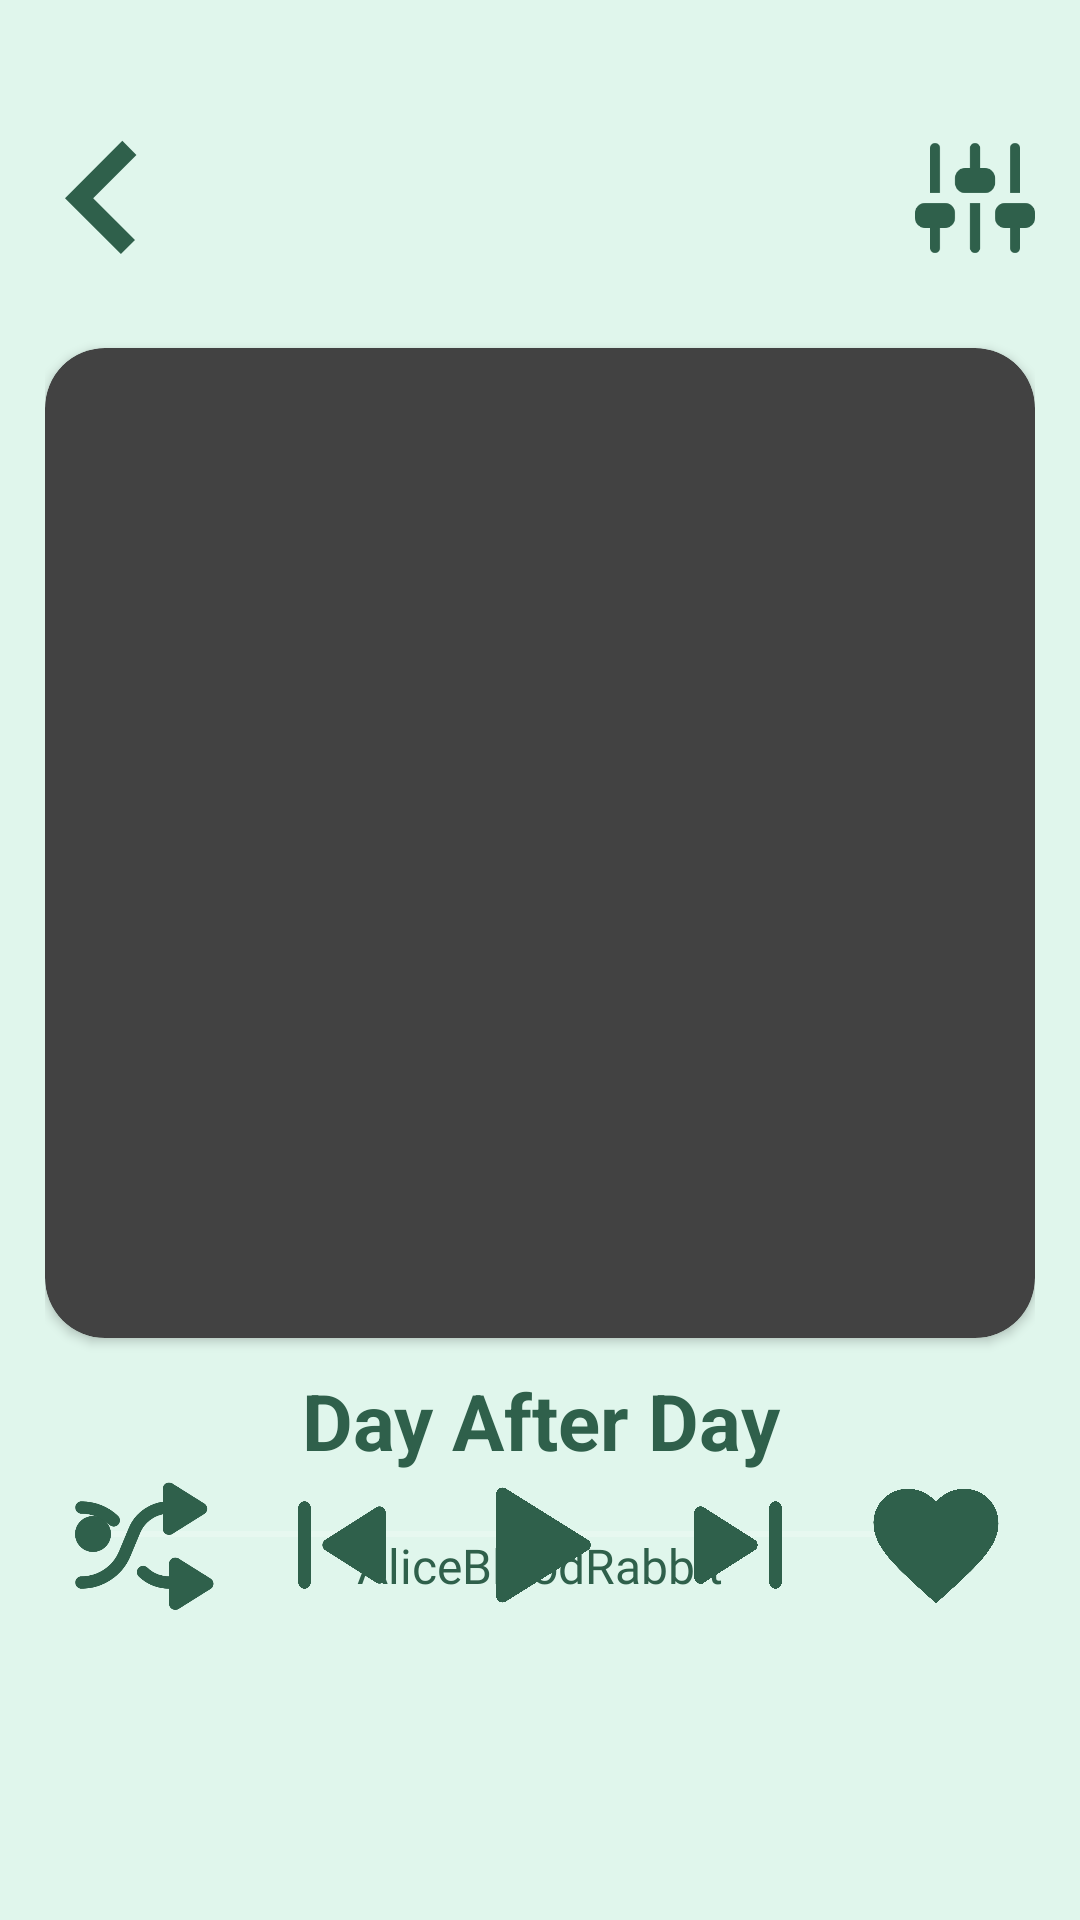

Named icons in this screenshot (1080 × 1920) and their centers, (x=x, y=y):
back: (x=100, y=197)
favourite: (x=936, y=1546)
play: (x=540, y=1545)
settings: (x=975, y=198)
shuffle: (x=144, y=1546)
skip back: (x=367, y=1545)
skip fwd: (x=713, y=1545)
